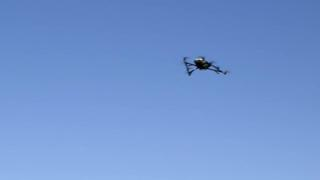UAV: (183, 56, 232, 76)
